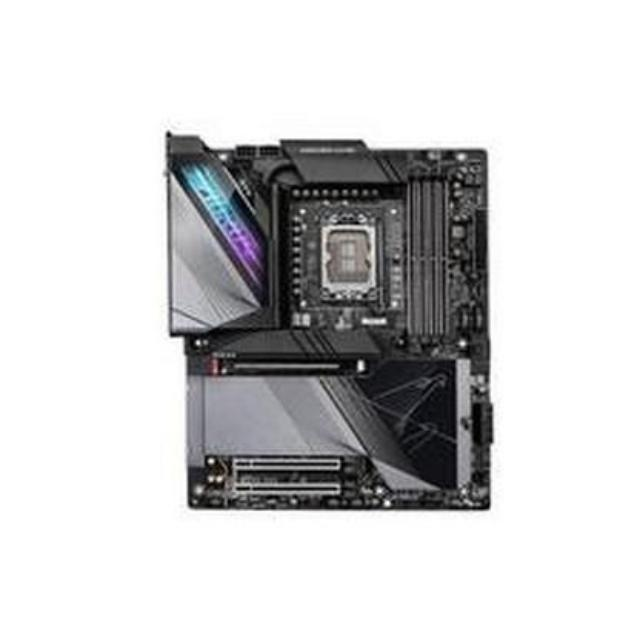Mainboard: (148, 112, 496, 520)
